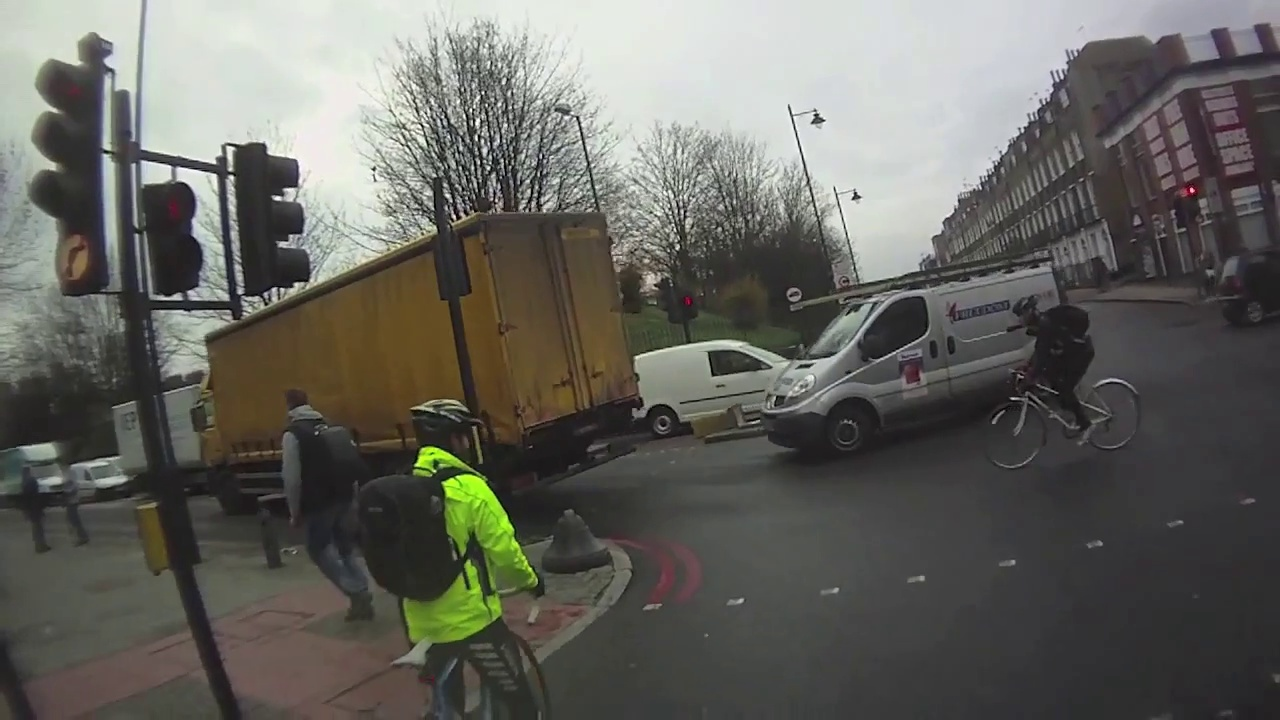cyclist_back: (371, 405, 551, 714)
cyclist_side: (989, 285, 1148, 477)
